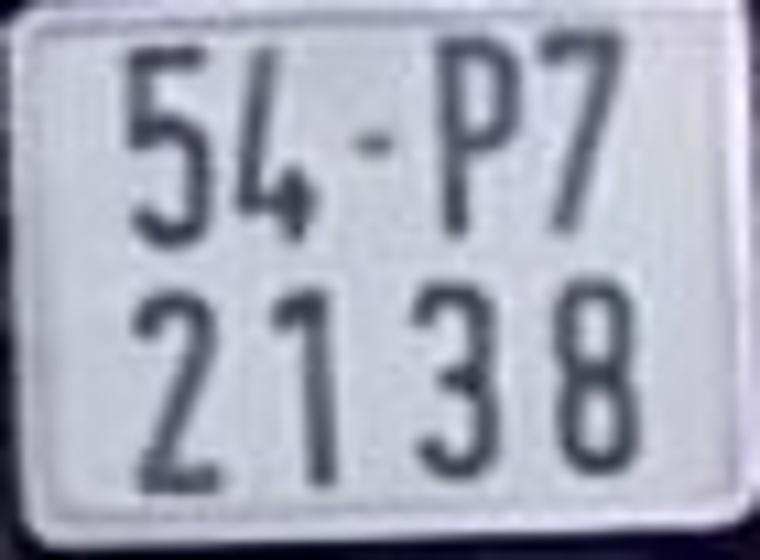-: (353, 131, 391, 155)
1: (271, 287, 334, 492)
2: (130, 290, 221, 491)
3: (411, 284, 501, 477)
4: (235, 47, 314, 243)
5: (123, 49, 211, 247)
7: (539, 27, 625, 239)
8: (549, 287, 641, 474)
P: (434, 38, 519, 239)
